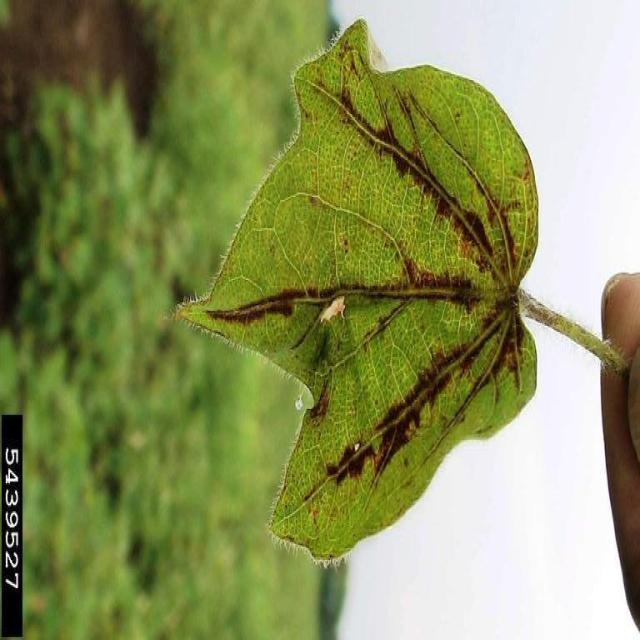Bacterial Blight: (323, 78, 511, 435)
